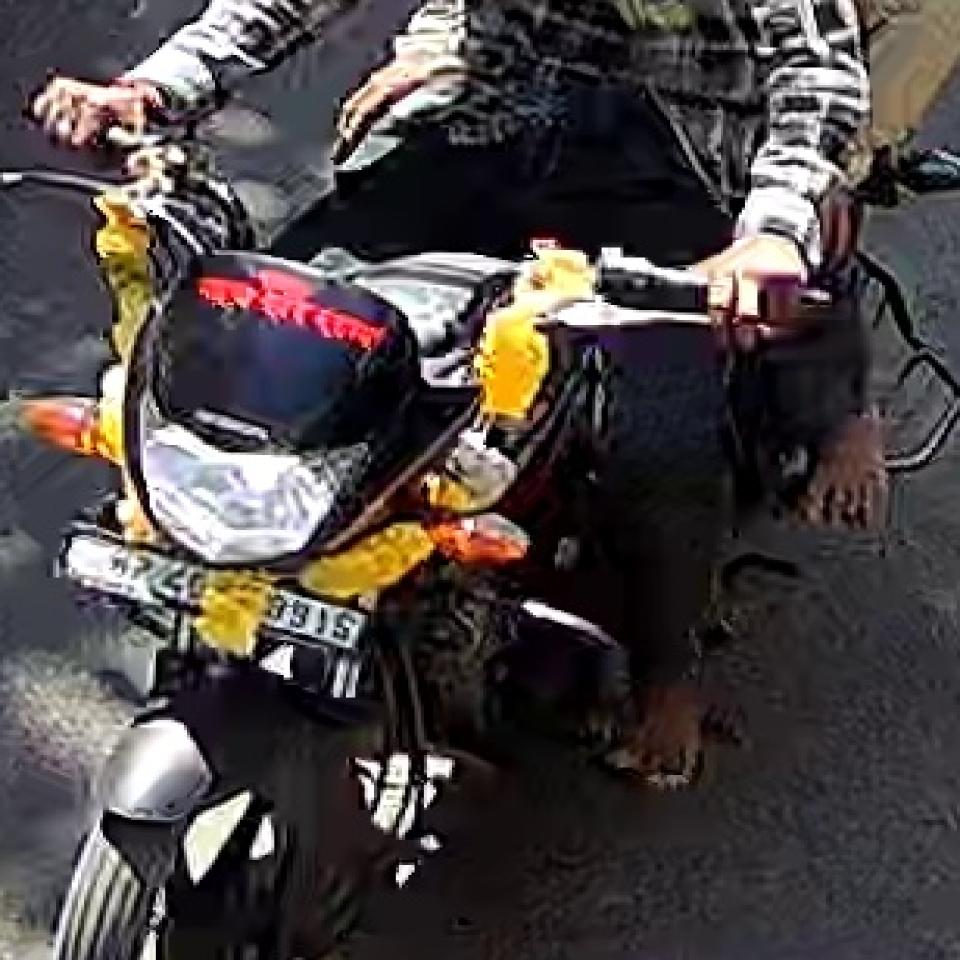head_light: (137, 378, 345, 566)
